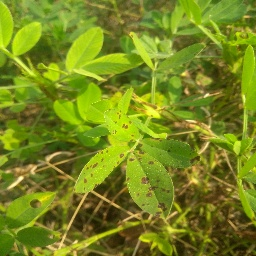GroundNut_Leaf: (127, 153, 174, 219), (70, 147, 125, 191), (3, 190, 58, 228), (157, 40, 206, 72), (12, 19, 45, 58), (65, 25, 103, 56), (101, 107, 134, 139), (85, 58, 144, 73), (52, 99, 80, 126)
